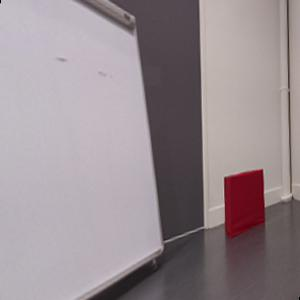big: (1, 1, 160, 300)
medium: (223, 169, 267, 239)
